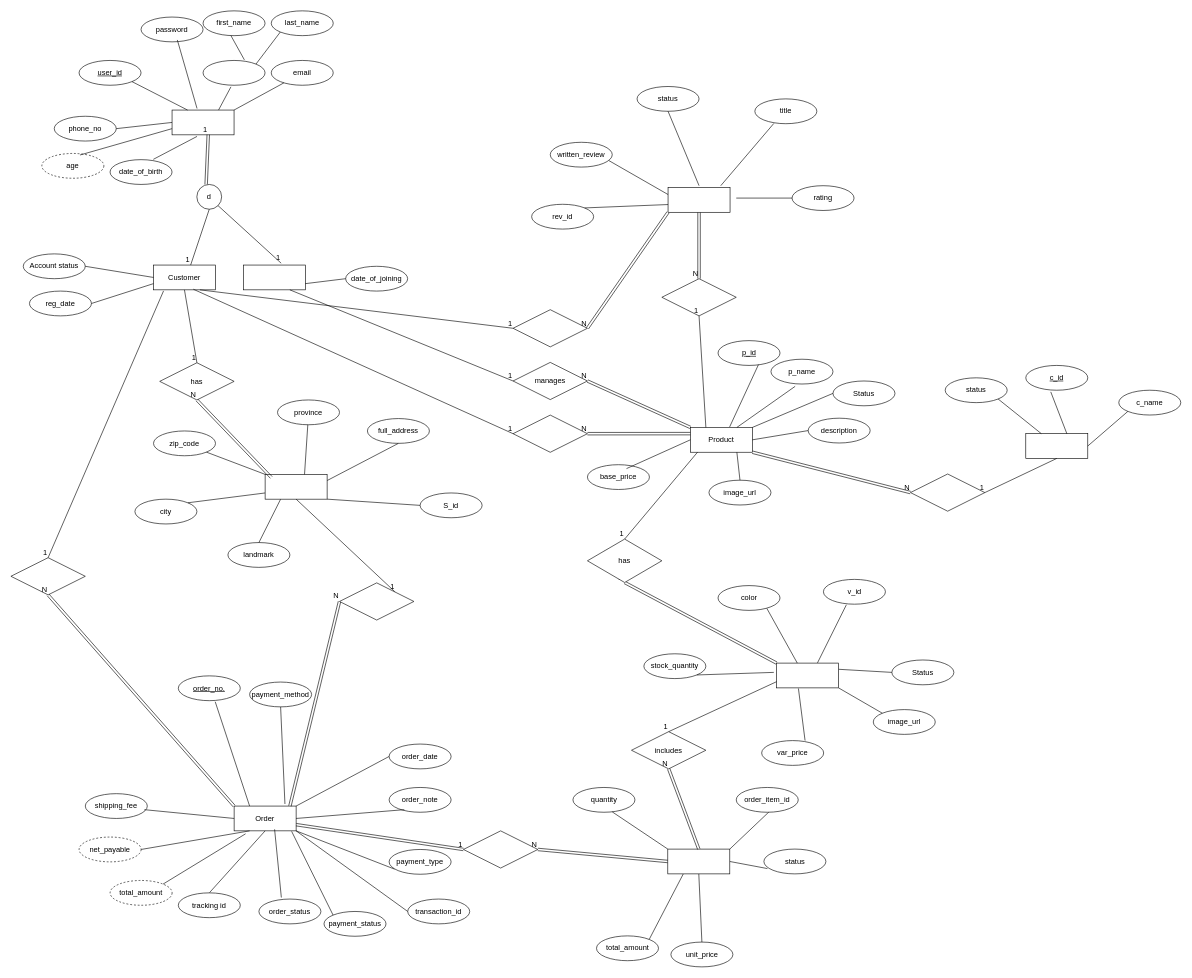
This 1192x978 diagram has some shape labels left out. Here are the shapes that lost their labels. From the top down, the centre of each, then its label:
At pixel 233 72: "full_name".
At pixel 202 122: "User".
At pixel 698 199: "Product Review".
At pixel 274 277: "Admin".
At pixel 698 297: "given".
At pixel 549 328: "leaves".
At pixel 549 433: "adds".
At pixel 1056 445: "Category".
At pixel 295 486: "Shipping address".
At pixel 947 492: "belongs to a".
At pixel 47 576: "places".
At pixel 376 601: "delievered to".
At pixel 807 675: "Product Varient".
At pixel 500 849: "consist".
At pixel 698 861: "Order_Cart_Items".
